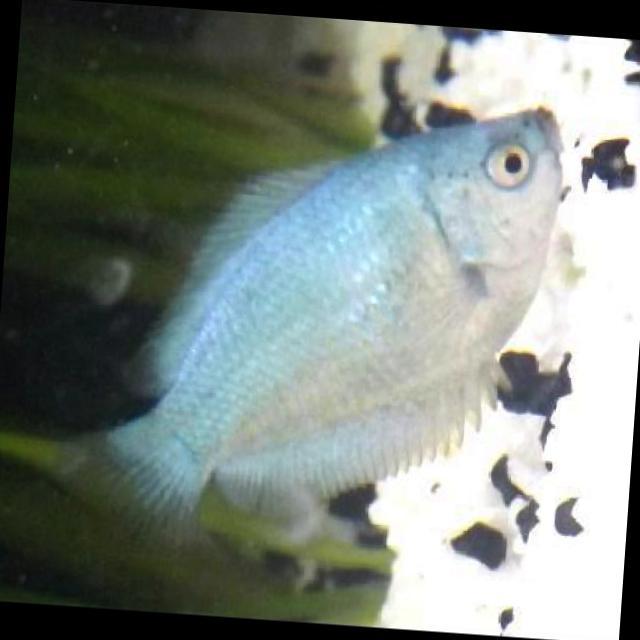Gourami: (26, 68, 578, 588)
